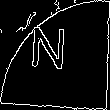N_S: (34, 29, 76, 81)
